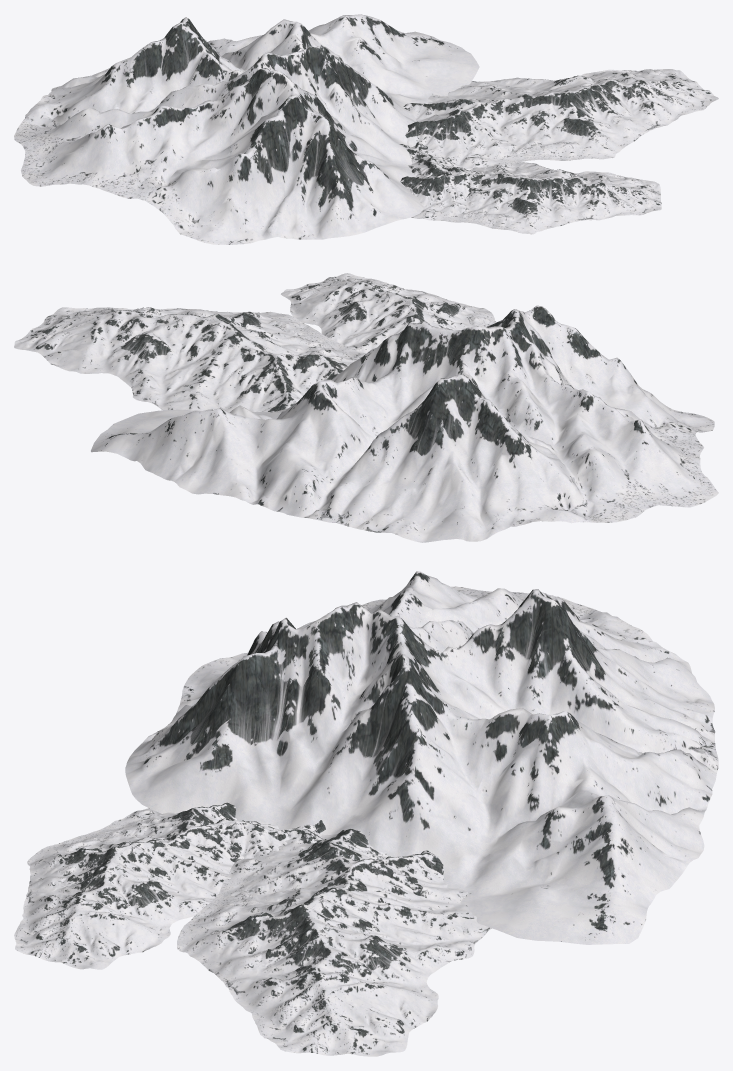
Rendered from mountanous_landscape.gltf.
The picture shows the model from 3 angles, top to bottom: view 1: azimuth 30°, elevation 25°; view 2: azimuth 150°, elevation 25°; view 3: azimuth 270°, elevation 25°; orthographic projection. The views are drawn at different scales.
Visible parts, largest first — view 1: pr_background_mountain_a_5_winter, pr_background_mountain_a_1_winter, pr_background_mountain_a_1_winter4, pr_background_mountain_a_1_winter3; view 2: pr_background_mountain_a_5_winter, pr_background_mountain_a_1_winter, pr_background_mountain_a_1_winter4; view 3: pr_background_mountain_a_5_winter, pr_background_mountain_a_1_winter, pr_background_mountain_a_1_winter4, pr_background_mountain_a_1_winter3.
Part boxes in pixels (x1=…): pr_background_mountain_a_5_winter: x1=14, y1=14, x2=479, y2=244; pr_background_mountain_a_1_winter: x1=403, y1=69, x2=718, y2=168; pr_background_mountain_a_1_winter4: x1=400, y1=162, x2=661, y2=234; pr_background_mountain_a_1_winter3: x1=400, y1=142, x2=487, y2=200; pr_background_mountain_a_5_winter: x1=91, y1=305, x2=718, y2=542; pr_background_mountain_a_1_winter: x1=14, y1=307, x2=366, y2=412; pr_background_mountain_a_1_winter4: x1=281, y1=273, x2=495, y2=353; pr_background_mountain_a_5_winter: x1=125, y1=571, x2=718, y2=944; pr_background_mountain_a_1_winter: x1=177, y1=829, x2=491, y2=1056; pr_background_mountain_a_1_winter4: x1=14, y1=802, x2=244, y2=969; pr_background_mountain_a_1_winter3: x1=147, y1=817, x2=326, y2=873.
Bounding box in the file's own units: 1503 × 276 × 1049.
Materials: 4 (4 with a texture image).
